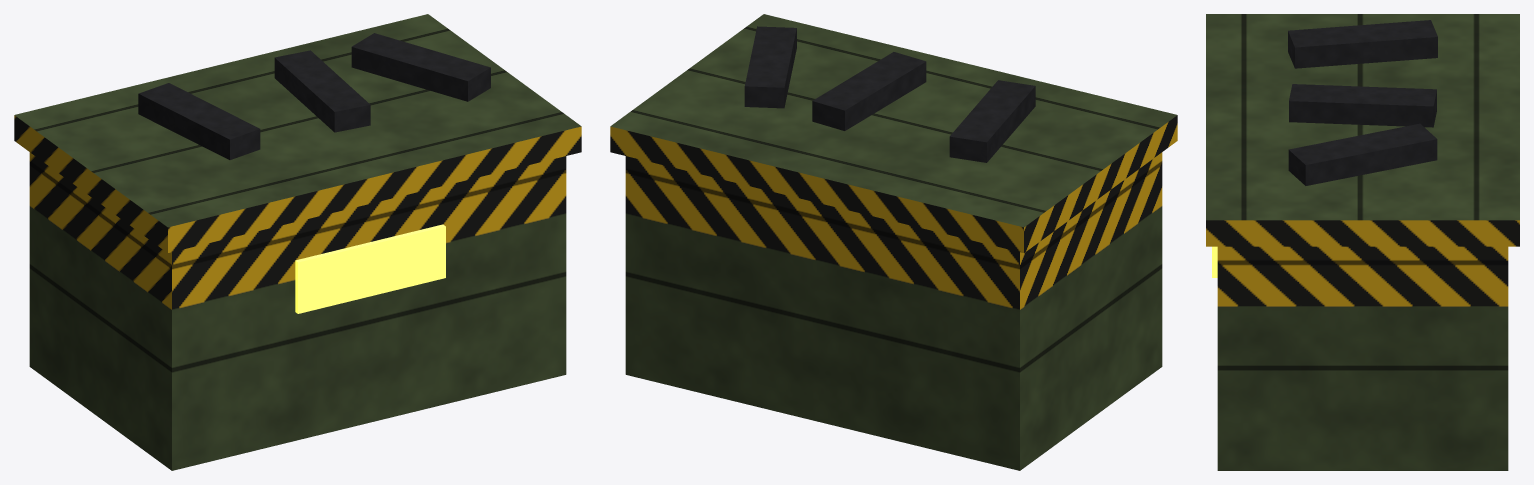
Rendered from ammo.glb.
3 renders of one model, left to right at view 1: azimuth 30°, elevation 25°; view 2: azimuth 150°, elevation 25°; view 3: azimuth 270°, elevation 25°, orthographic. The views are drawn at different scales.
Parts seen in each view (by area): view 1: ammo; view 2: ammo; view 3: ammo.
Part boxes in pixels (x1=…): ammo: x1=14, y1=14, x2=581, y2=470; ammo: x1=610, y1=14, x2=1177, y2=470; ammo: x1=1206, y1=14, x2=1519, y2=470.
Size of the model in its own units: 0.84 by 0.55 by 0.54.
3 materials, 2 textured.
